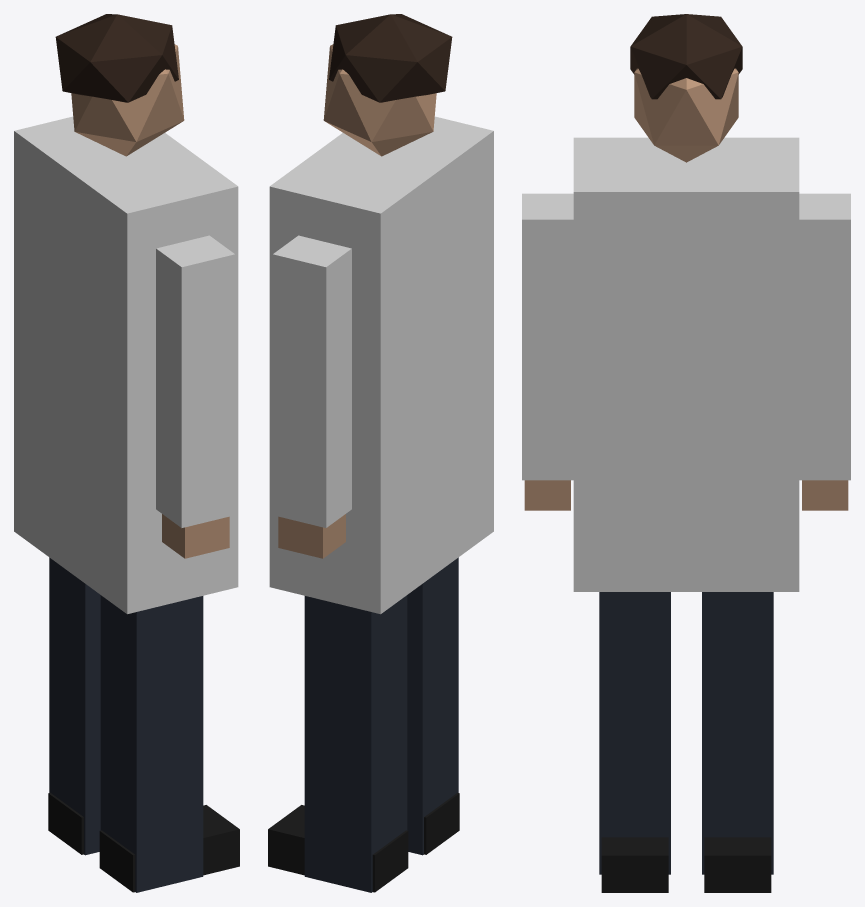
Rendered from leute.glb.
The picture shows the model from 3 angles, left to right: view 1: azimuth 30°, elevation 25°; view 2: azimuth 150°, elevation 25°; view 3: azimuth 270°, elevation 25°; orthographic projection.
Parts seen in each view (by area): view 1: mantel, mensch; view 2: mantel, mensch; view 3: mantel.
Boxes of the visible parts, x1,y1,x2,y2 form: mantel: (14, 14, 239, 892); mensch: (14, 140, 238, 485); mantel: (268, 14, 493, 892); mensch: (269, 140, 493, 499); mantel: (522, 14, 850, 892).
Size of the model in its own units: 0.3032 by 1.8 by 0.64.
